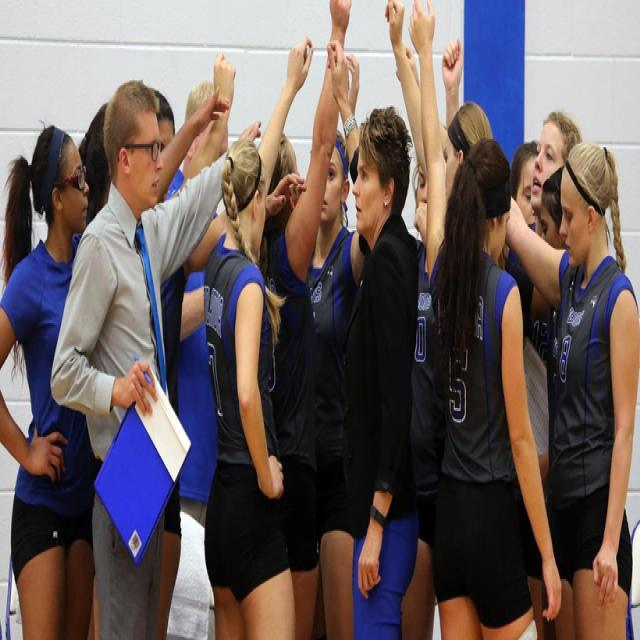body: (0, 83, 233, 640), (46, 72, 266, 638), (402, 0, 568, 638), (408, 43, 565, 640), (150, 88, 310, 640), (195, 24, 317, 638), (504, 139, 640, 640), (251, 0, 357, 638), (324, 31, 422, 638), (306, 45, 367, 640), (382, 0, 510, 275), (440, 35, 583, 267), (162, 83, 230, 531), (77, 85, 233, 240), (400, 144, 438, 638), (72, 93, 121, 232)
